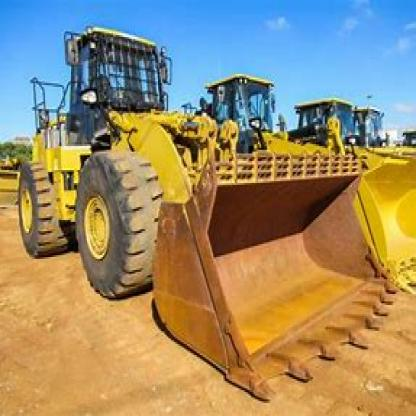bull_dozer/loader/grader: (15, 15, 404, 399)
